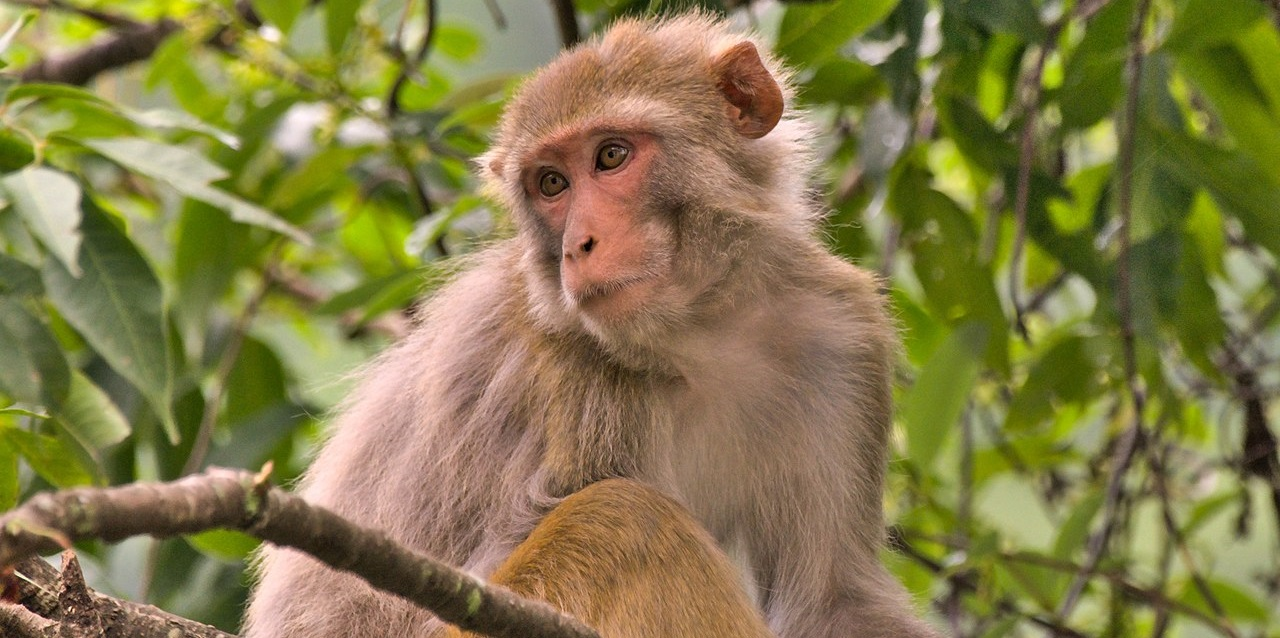monkey: (228, 15, 1013, 638)
